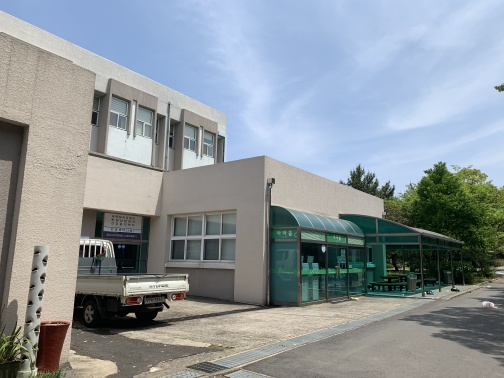Ara Hall: (170, 167, 463, 313), (268, 202, 459, 312)
